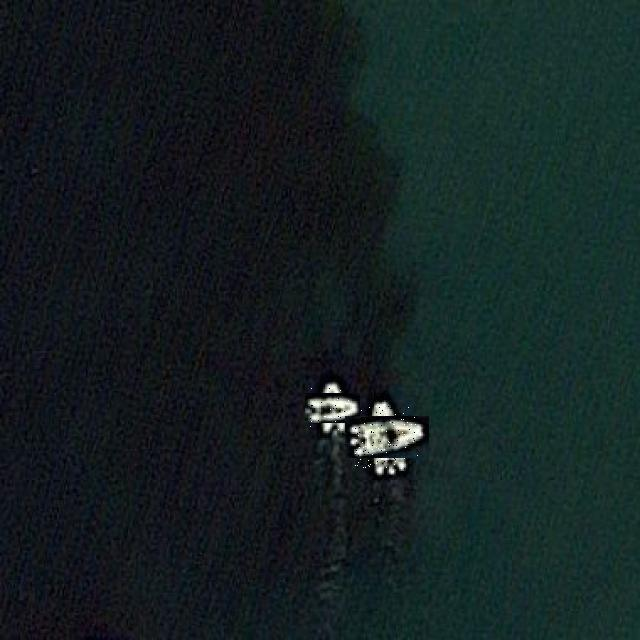boat: (355, 406, 418, 469), (310, 386, 354, 430)
